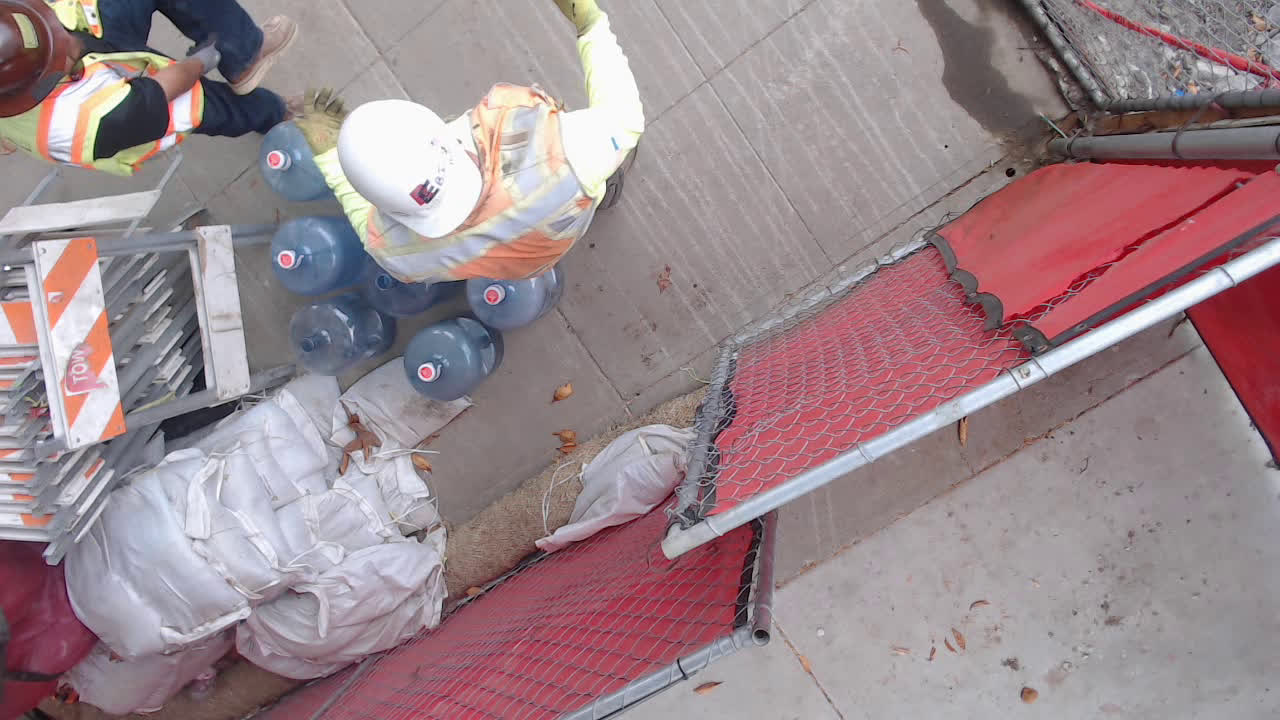hardhat: (336, 97, 484, 239)
safetyvest: (370, 84, 610, 285), (6, 3, 213, 185)
